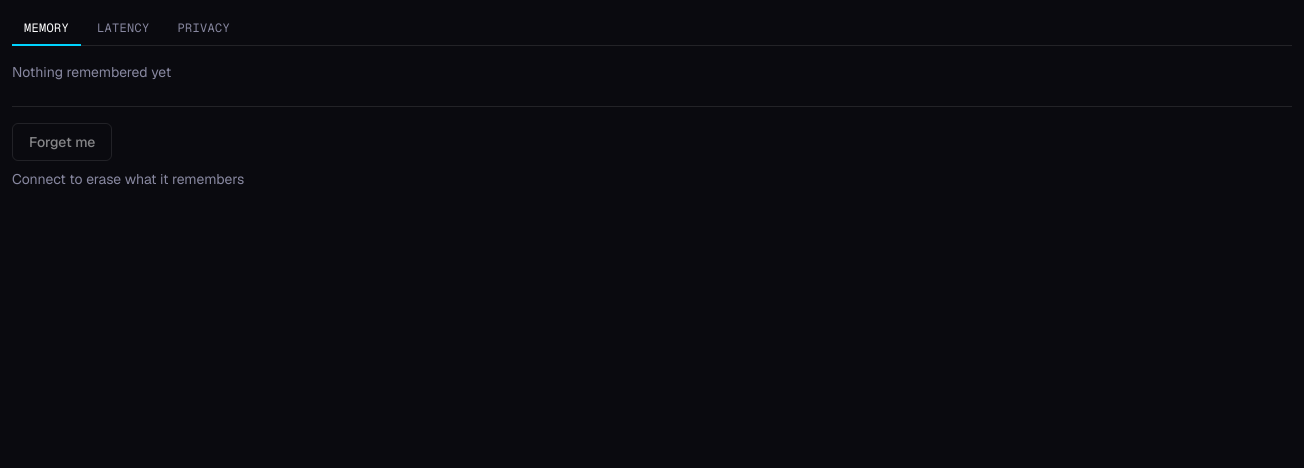
Scenario: PanelTabs › the Latency tab holds the latency table for the turns
The width and height of the screenshot is (1304, 468).
Click the tab "Latency" at (123, 29), box [85,12,162,46]
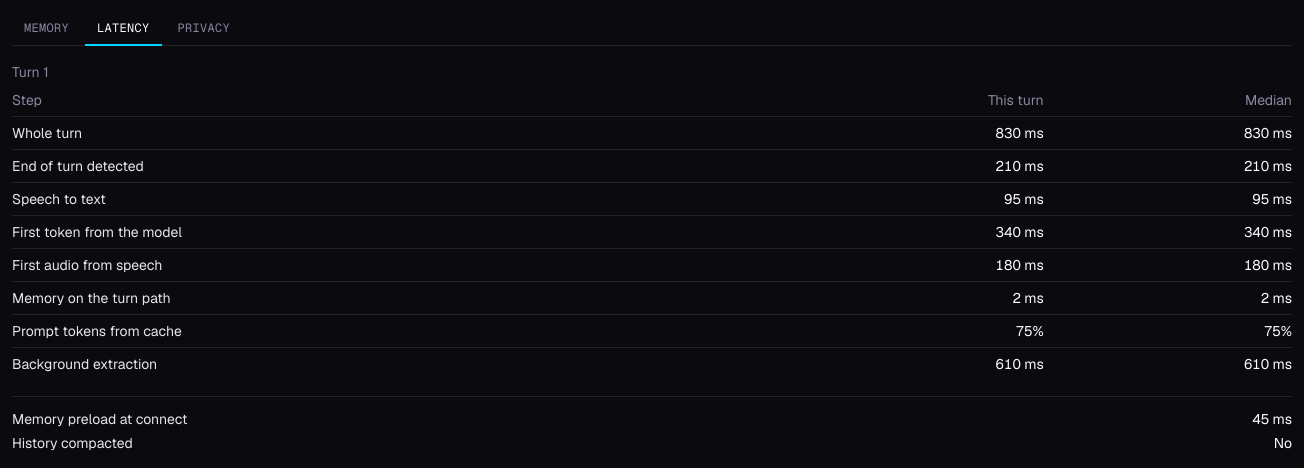
Expected: the text "Turn 1" is shown, [12,63,49,81]
